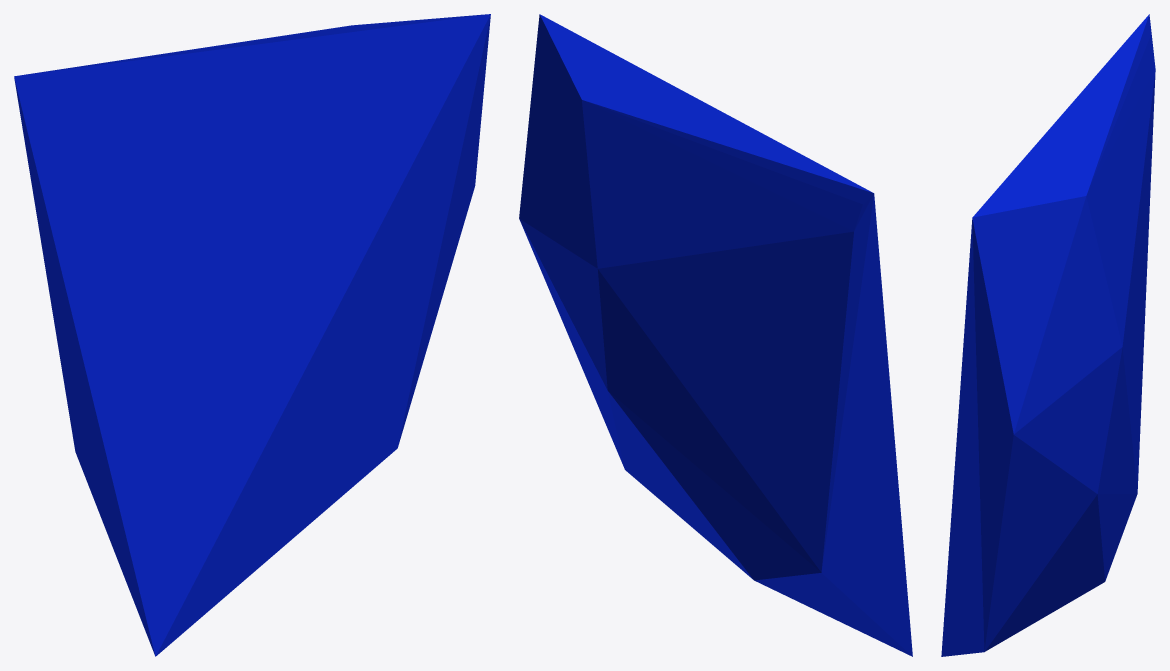
File: shoulder-roll-housing-mirror_convex_piece_001.obj
The picture shows the model from 3 angles, left to right: view 1: azimuth 30°, elevation 25°; view 2: azimuth 150°, elevation 25°; view 3: azimuth 270°, elevation 25°; orthographic projection. The views are drawn at different scales.
Bounding box in the file's own units: 0.036 × 0.0468 × 0.0143.
